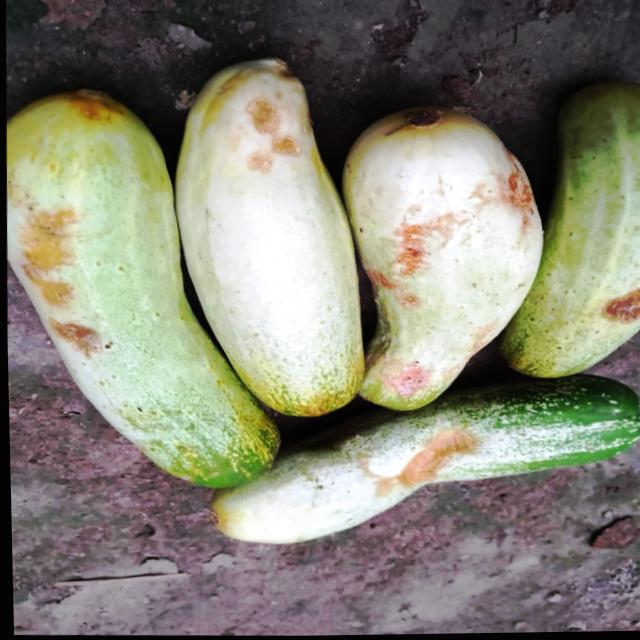Belly-Rot: (365, 420, 480, 505), (362, 223, 439, 318), (16, 200, 78, 311), (223, 95, 306, 176), (490, 163, 542, 241), (43, 315, 104, 361), (594, 282, 640, 341), (382, 364, 427, 407)
